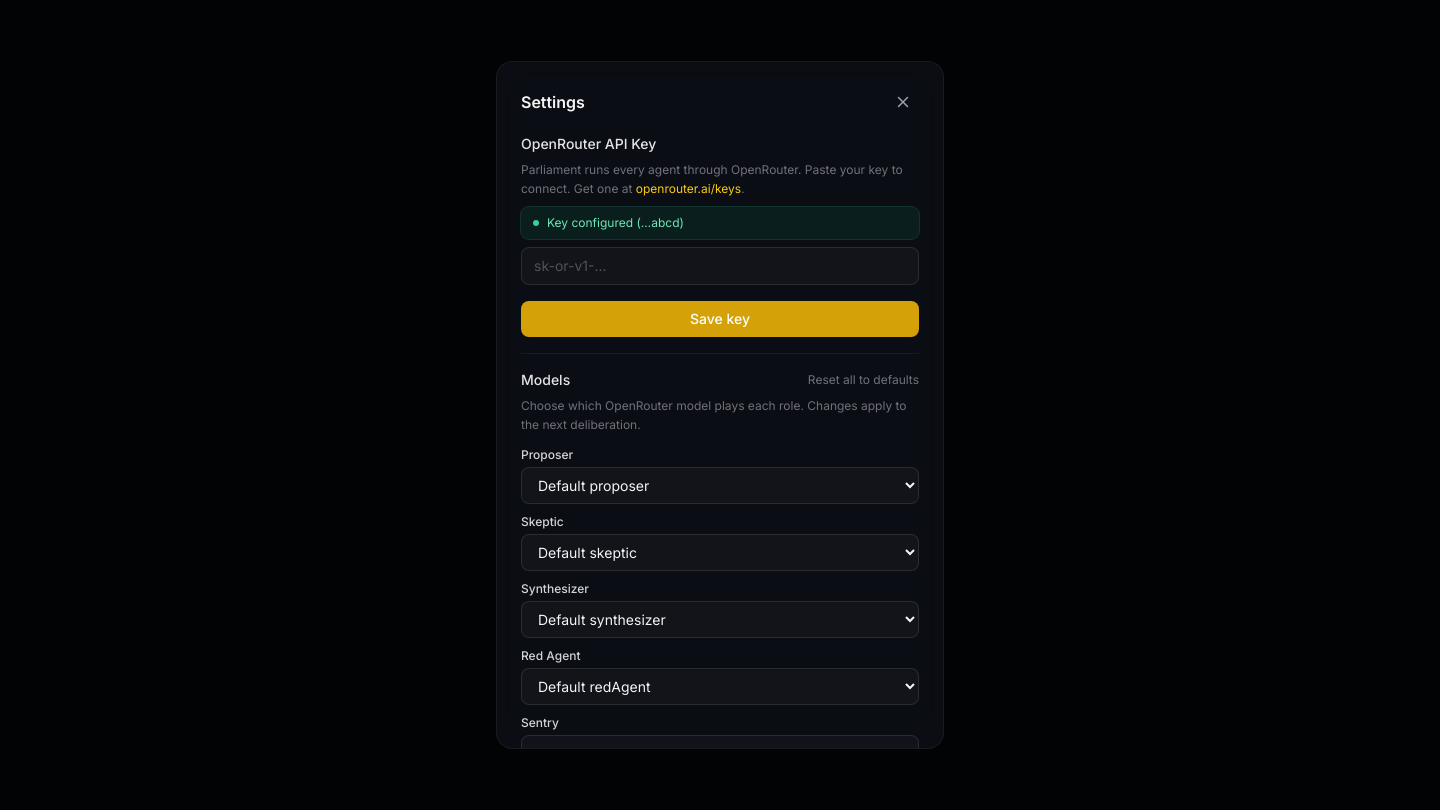
Test: SettingsPanel — Models section › saves overrides via PUT (default-valued roles sent as null) and shows the saved feedback
The width and height of the screenshot is (1440, 810).
Select "GPT-5 Mini" in the dropdown labelled "Skeptic" at (720, 552), box [521, 534, 919, 571]
(page scrolled)
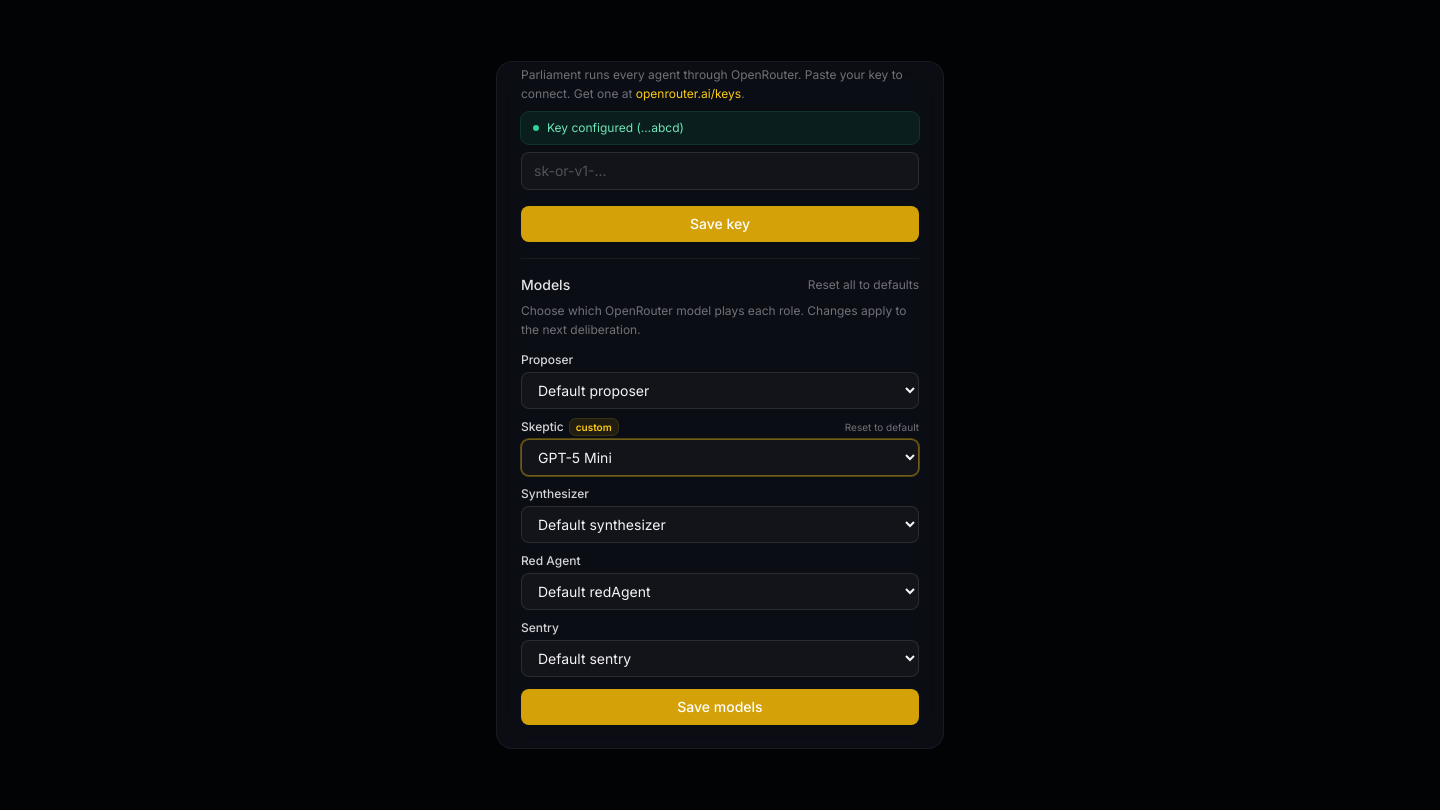
Click the button "Save models" at (720, 707), box [521, 689, 919, 725]
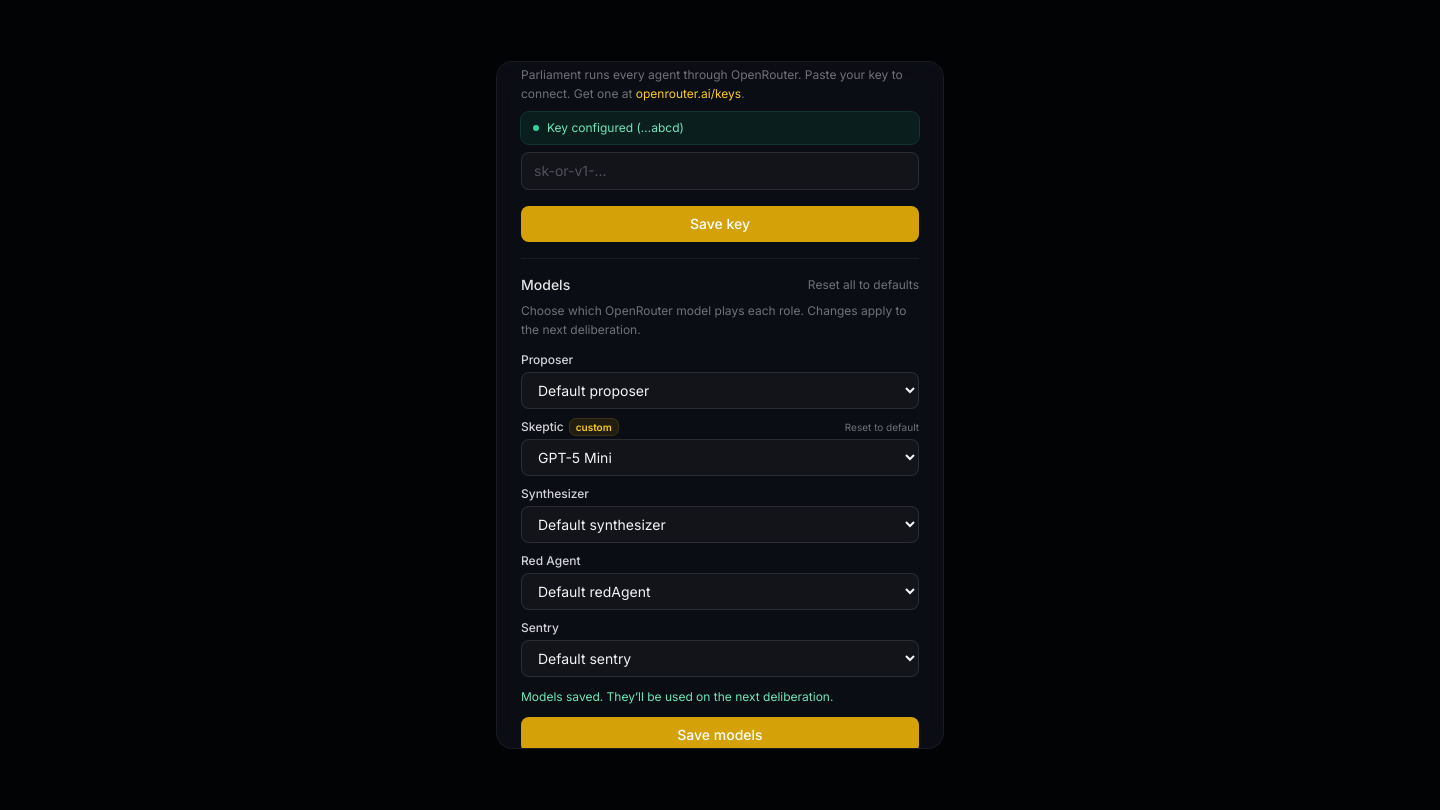
Expected: the text "custom" is shown, [570, 419, 618, 435]
Expected: the text "Models saved. They’ll be used on the next deliberation." is shown, [521, 689, 833, 704]
